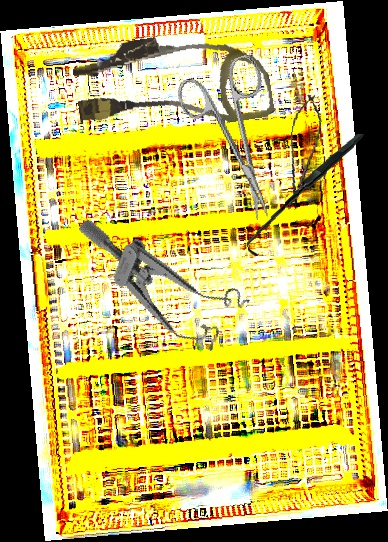Cannula: (69, 20, 276, 146)
Hook Surgical: (240, 133, 372, 257)
Iris Scissors: (171, 52, 302, 232)
Micro Scissor: (279, 91, 326, 213)
Speculum: (55, 218, 257, 358)
